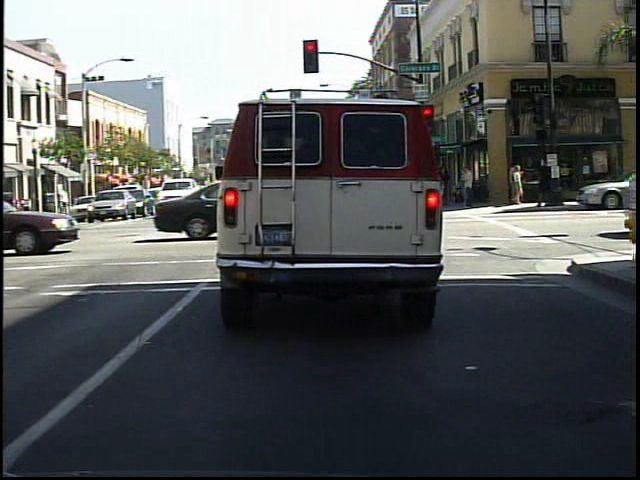person: (534, 157, 555, 212), (511, 164, 531, 209)
